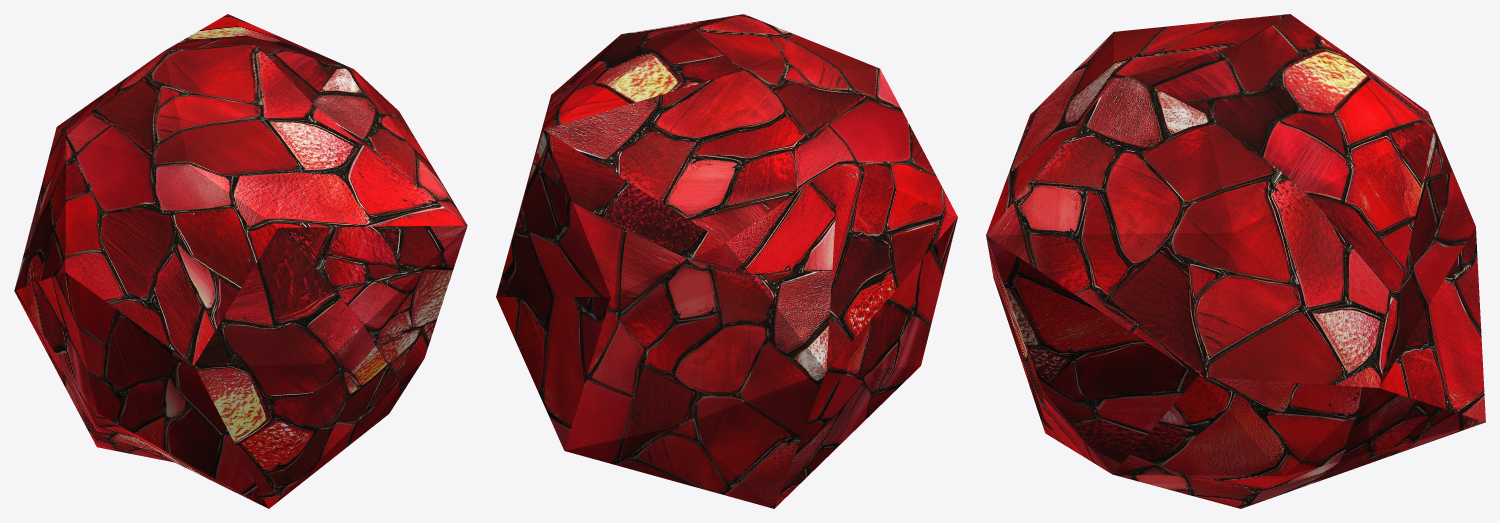
Rendered from star2Red.glb.
3 views of the same model, side by side, from view 1: azimuth 30°, elevation 25°; view 2: azimuth 150°, elevation 25°; view 3: azimuth 270°, elevation 25° (orthographic). The views are drawn at different scales.
Visible parts, largest first — view 1: star2; view 2: star2; view 3: star2.
Part boxes in pixels (left/top/right/bottom): star2: left=14, top=14, right=467, bottom=508; star2: left=496, top=14, right=957, bottom=508; star2: left=986, top=14, right=1485, bottom=508.
Bounding box in the file's own units: 1 × 1 × 1.
1 material, 1 textured.
